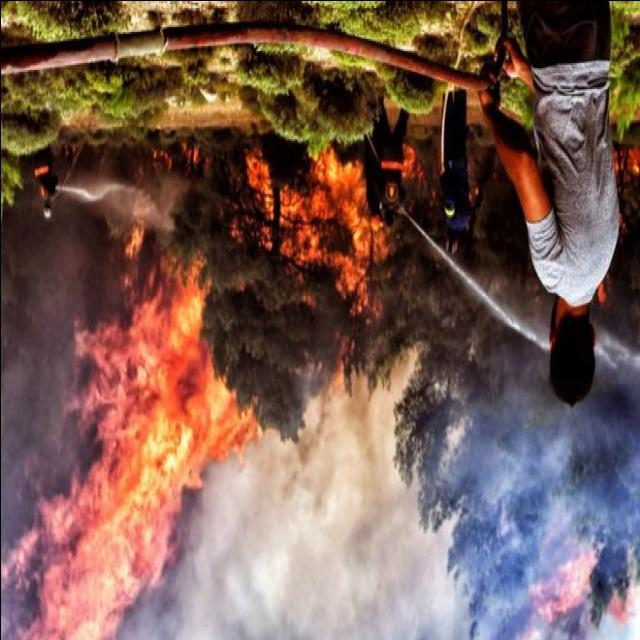Fire: (0, 152, 401, 640)
